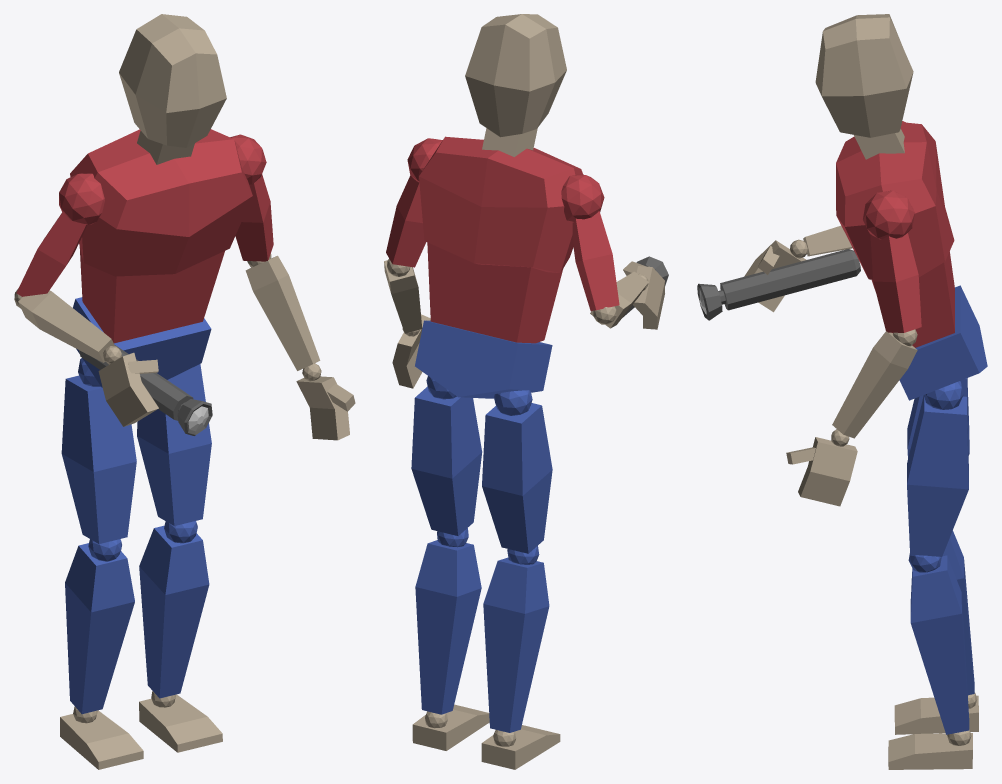
Rendered from Player.fbx.
3 views of the same model, side by side, from view 1: azimuth 30°, elevation 25°; view 2: azimuth 150°, elevation 25°; view 3: azimuth 270°, elevation 25° (orthographic). The views are drawn at different scales.
Parts seen in each view (by area): view 1: Chest, Head, Tigh.001, Leg, Leg.001, Waist, Tigh, ForeArm, Hip, ForeArm.001, Foot.001, Foot (+10 smaller); view 2: Chest, Head, Waist, Leg.001, Leg, Tigh.001, Tigh, Hip, Arm.001, Arm, Foot, Foot.001 (+8 smaller); view 3: Chest, Head, Tigh, Leg, Circle, Hip, Arm, ForeArm, Foot, Hand, Waist, Shoulder (+7 smaller).
Part boxes in pixels (left/top/right/bottom): Chest: left=70, top=129, right=252, bottom=276; Head: left=119, top=14, right=226, bottom=147; Tigh.001: left=61, top=375, right=136, bottom=543; Leg: left=139, top=525, right=209, bottom=698; Leg.001: left=65, top=543, right=134, bottom=714; Waist: left=79, top=247, right=224, bottom=343; Tigh: left=137, top=364, right=211, bottom=525; ForeArm: left=245, top=255, right=320, bottom=370; Hip: left=73, top=297, right=211, bottom=387; ForeArm.001: left=18, top=290, right=114, bottom=362; Foot.001: left=60, top=710, right=143, bottom=769; Foot: left=139, top=694, right=222, bottom=752; Chest: left=419, top=136, right=583, bottom=272; Head: left=465, top=14, right=566, bottom=137; Waist: left=427, top=242, right=562, bottom=343; Leg.001: left=483, top=557, right=549, bottom=732; Leg: left=415, top=540, right=481, bottom=714; Tigh.001: left=482, top=403, right=552, bottom=553; Tigh: left=411, top=386, right=482, bottom=535; Hip: left=415, top=320, right=552, bottom=398; Arm.001: left=572, top=211, right=619, bottom=311; Arm: left=386, top=175, right=426, bottom=267; Foot: left=412, top=704, right=489, bottom=750; Foot.001: left=481, top=725, right=560, bottom=769; Chest: left=836, top=122, right=954, bottom=279; Head: left=815, top=14, right=913, bottom=137; Tigh: left=907, top=395, right=968, bottom=556; Leg: left=910, top=555, right=969, bottom=734; Circle: left=697, top=249, right=860, bottom=320; Hip: left=899, top=285, right=987, bottom=400; Arm: left=870, top=233, right=921, bottom=332; ForeArm: left=832, top=331, right=917, bottom=438; Foot: left=888, top=733, right=972, bottom=769; Hand: left=798, top=437, right=857, bottom=506; Waist: left=871, top=251, right=954, bottom=347; Shoulder: left=863, top=190, right=914, bottom=239.
Bounding box in the file's own units: 97.64 × 248 × 90.19.
